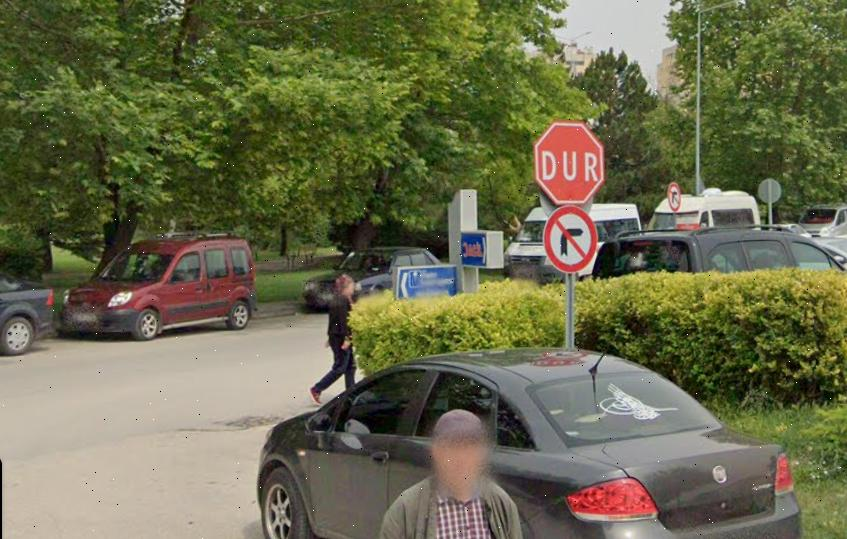rightturnsareforbidden: (548, 208, 596, 268)
stop: (537, 125, 605, 200)
